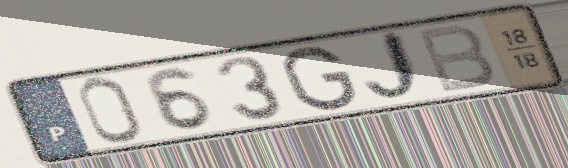0: (73, 74, 147, 146)
3: (215, 56, 286, 124)
6: (143, 65, 218, 134)
B: (412, 22, 499, 96)
G: (279, 44, 360, 113)
J: (362, 27, 431, 107)
